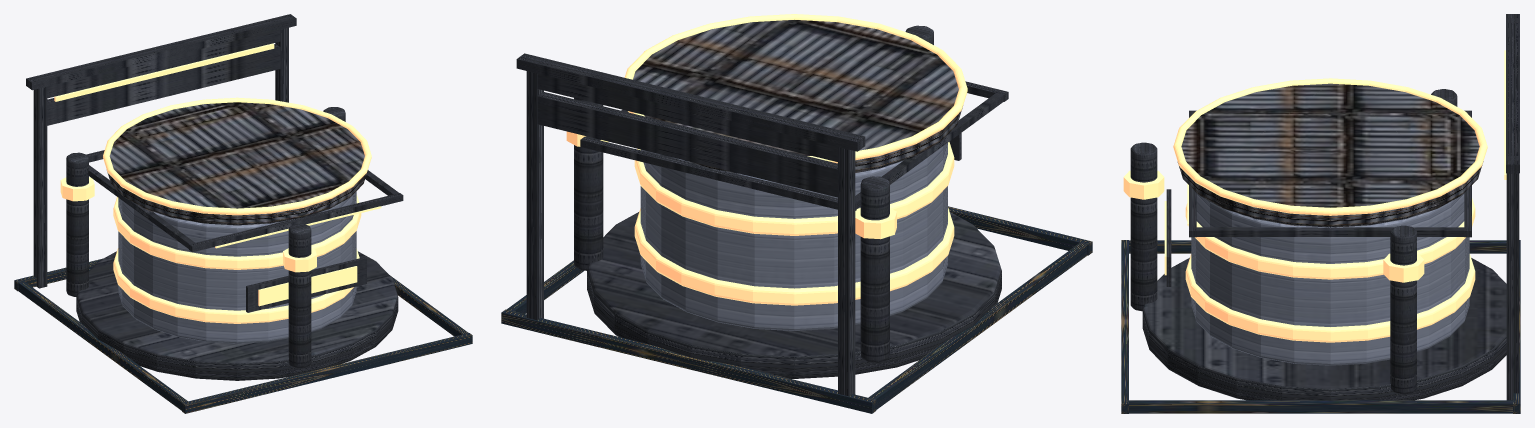
File: engine_reactor.glb
3 views of the same model, side by side, from view 1: azimuth 30°, elevation 25°; view 2: azimuth 150°, elevation 25°; view 3: azimuth 270°, elevation 25° (orthographic). The views are drawn at different scales.
Parts seen in each view (by area): view 1: cap, sight_shell, core, base, capring, shelltoe0, band1, band0, pipe2, pipe1, shelltoes0, shellrim0 (+8 smaller); view 2: sight_shell, cap, core, base, shelltoe2, band0, band1, pipe1, capring, shelltoes0, pipe0, shellrim2 (+4 smaller); view 3: cap, core, base, capring, shelltoes2, sight_shell, band0, pipe2, pipe0, band1, shellrims2, shelltoe0 (+7 smaller).
Part boxes in pixels (left/top/right/bottom): cap: left=107, top=102, right=367, bottom=225; sight_shell: left=26, top=14, right=296, bottom=288; core: left=118, top=191, right=356, bottom=343; base: left=76, top=251, right=398, bottom=380; capring: left=103, top=97, right=371, bottom=215; shelltoe0: left=182, top=333, right=472, bottom=413; band1: left=113, top=194, right=361, bottom=269; band0: left=113, top=248, right=359, bottom=323; pipe2: left=288, top=223, right=311, bottom=368; pipe1: left=66, top=152, right=88, bottom=296; shelltoes0: left=18, top=280, right=187, bottom=410; shellrim0: left=189, top=193, right=403, bottom=252; sight_shell: left=516, top=53, right=865, bottom=396; cap: left=627, top=20, right=962, bottom=174; core: left=640, top=143, right=947, bottom=330; base: left=587, top=212, right=1001, bottom=378; shelltoe2: left=501, top=309, right=876, bottom=413; band0: left=634, top=208, right=954, bottom=305; band1: left=634, top=142, right=954, bottom=235; pipe1: left=860, top=176, right=889, bottom=362; capring: left=624, top=14, right=967, bottom=163; shelltoes0: left=867, top=242, right=1088, bottom=409; pipe0: left=574, top=98, right=603, bottom=270; shellrim2: left=580, top=136, right=856, bottom=210; cap: left=1177, top=83, right=1483, bottom=227; core: left=1191, top=193, right=1469, bottom=365; base: left=1142, top=257, right=1506, bottom=400; capring: left=1173, top=78, right=1487, bottom=215; shelltoes2: left=1126, top=400, right=1515, bottom=413; sight_shell: left=1506, top=14, right=1519, bottom=400; band0: left=1185, top=254, right=1475, bottom=342; pipe2: left=1130, top=142, right=1157, bottom=311; pipe0: left=1390, top=225, right=1416, bottom=394; band1: left=1185, top=198, right=1475, bottom=279; shellrims2: left=1194, top=227, right=1466, bottom=236; shelltoe0: left=1121, top=240, right=1128, bottom=413.
Bounding box in the file's own units: 2.46 × 1.7 × 2.54.
Materials: 7 (5 with a texture image).
